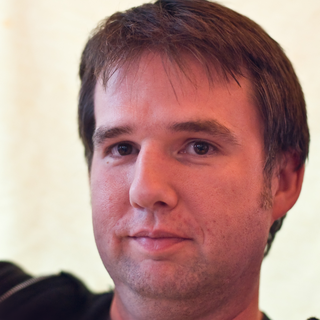eye: (173, 134, 228, 163), (97, 136, 144, 164)
